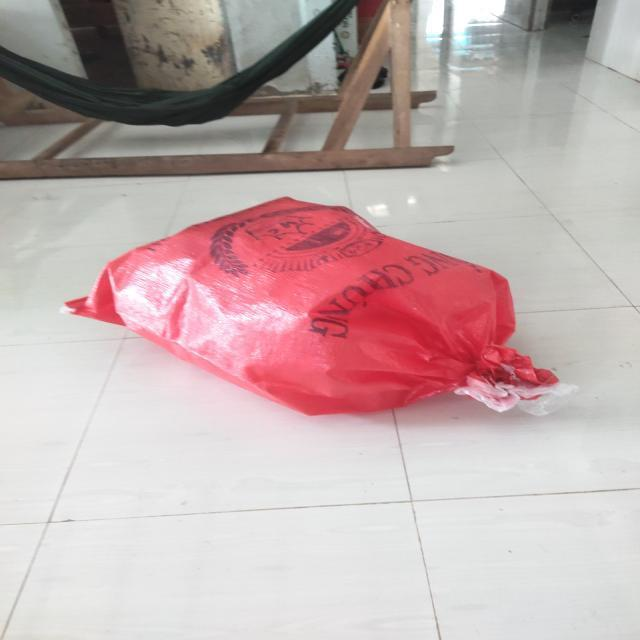gunny_bag: (65, 197, 577, 416)
